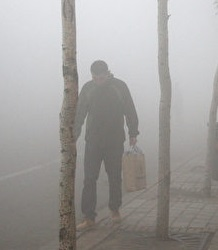person: (72, 59, 145, 230)
